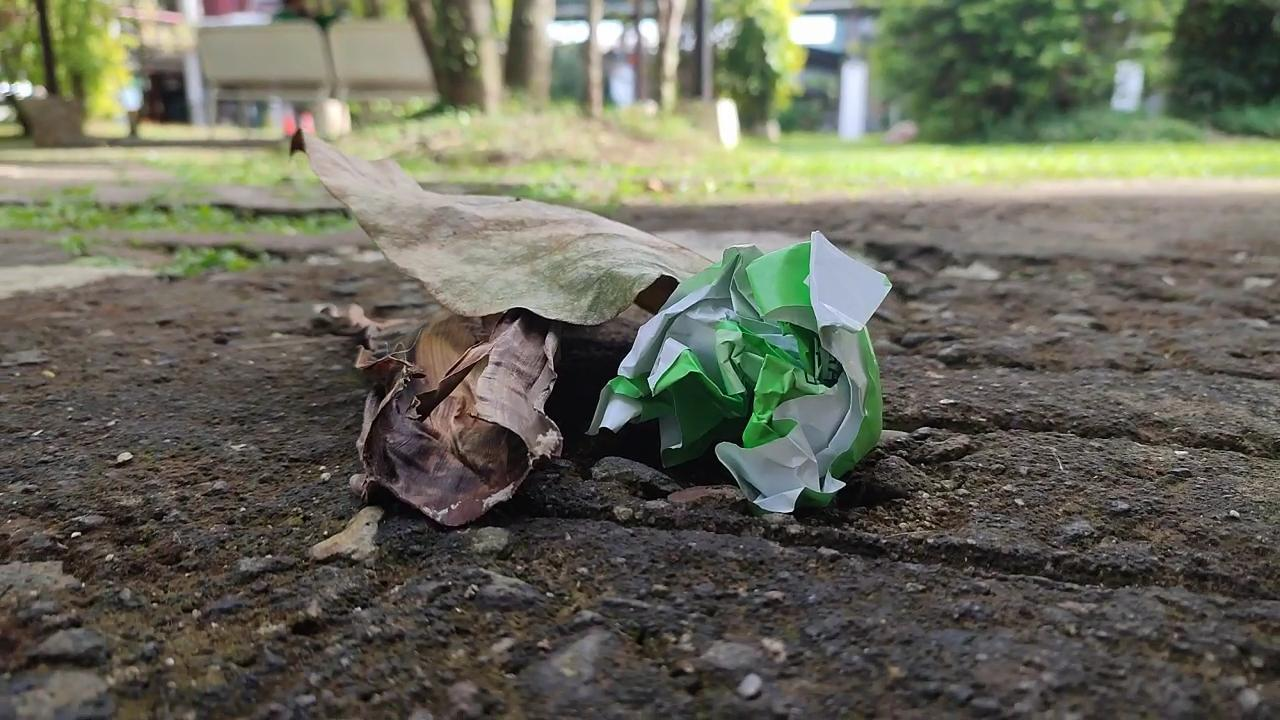Paper: (595, 219, 903, 527)
